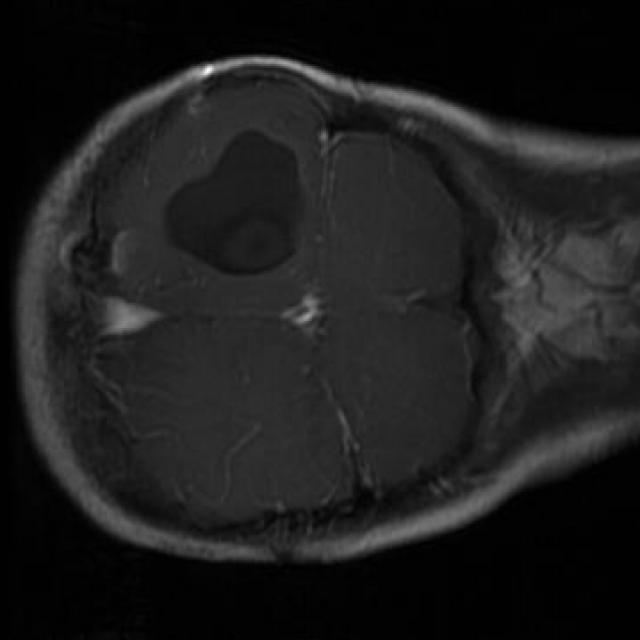glioma: (166, 134, 307, 276)
